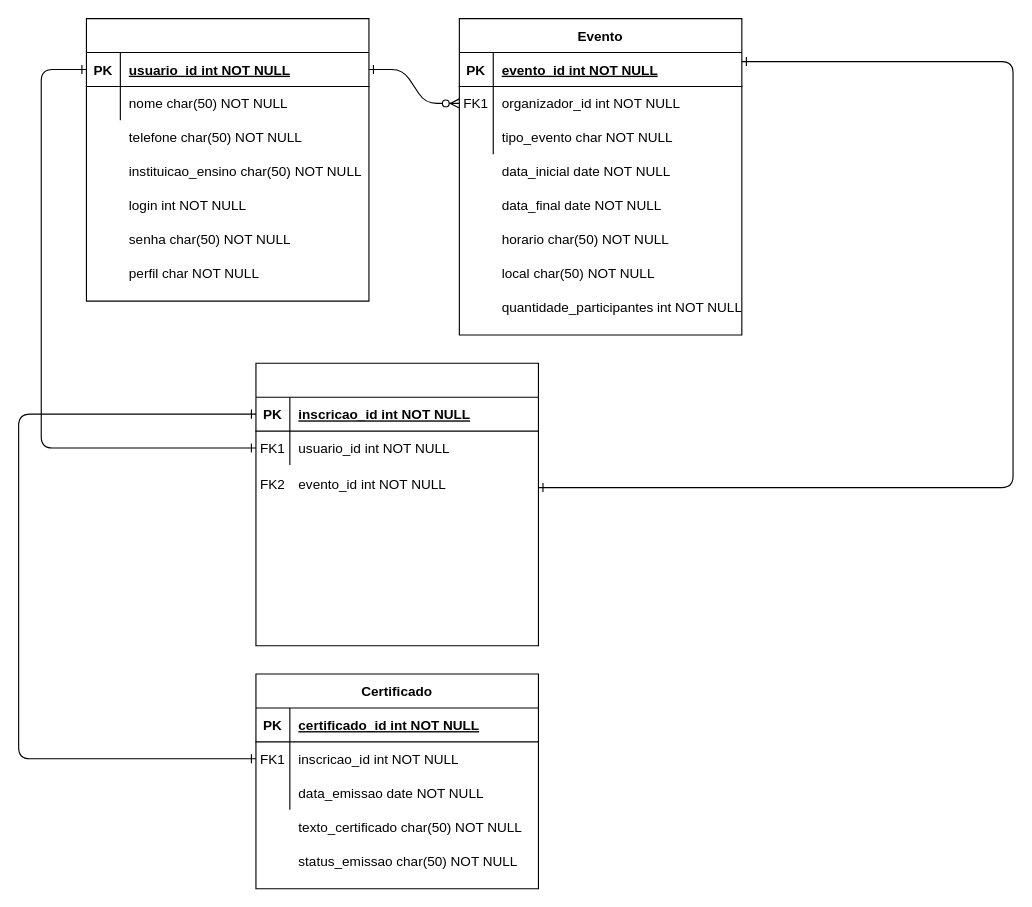
Some shapes in this 1032 by 907 pixel diagram are drawn without their labels. Each missing label, with the box of its shape:
Inscrição: (255, 362, 538, 646)
Usuário: (85, 18, 369, 301)
